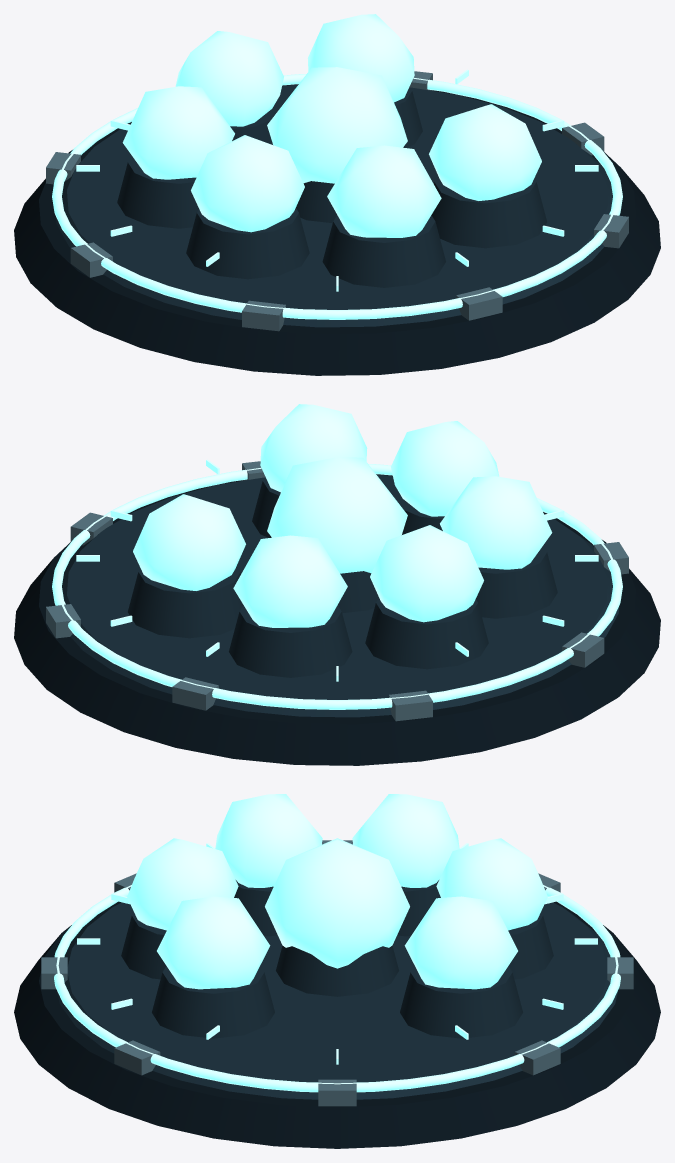
The model's file is crystalStorage.glb.
3 renders of one model, top to bottom at view 1: azimuth 30°, elevation 25°; view 2: azimuth 150°, elevation 25°; view 3: azimuth 270°, elevation 25°, orthographic.
Parts seen in each view (by area): view 1: crystal-cell (×7), armored-foundation, upper-deck, detail (×7), perimeter-light, buttress-2, buttress-3, buttress-4, buttress-1, buttress-0, buttress-5; view 2: crystal-cell (×7), armored-foundation, upper-deck, detail (×7), perimeter-light, buttress-6, buttress-5, buttress-4, buttress-7, buttress-0, buttress-3; view 3: crystal-cell (×7), upper-deck, armored-foundation, detail (×7), perimeter-light, buttress-0, buttress-1, buttress-7, buttress-2, buttress-6.
Part boxes in pixels (x1,y1,x2,y2): crystal-cell (×7): (122,14,541,237); armored-foundation: (14,84,660,375); upper-deck: (55,84,620,327); detail (×7): (117,87,546,287); perimeter-light: (52,74,622,319); buttress-2: (456,287,502,320); buttress-3: (242,300,285,331); buttress-4: (70,242,112,277); buttress-1: (594,214,628,248); buttress-0: (562,122,604,155); buttress-5: (46,152,80,184); crystal-cell (×7): (133,404,552,627); armored-foundation: (14,474,660,765); upper-deck: (54,474,619,717); detail (×7): (128,477,557,677); perimeter-light: (52,464,622,709); buttress-6: (172,677,218,710); buttress-5: (389,690,432,721); buttress-4: (562,632,604,667); buttress-7: (46,604,80,638); buttress-0: (70,512,112,545); buttress-3: (594,542,628,574); crystal-cell (×7): (127,794,547,989); upper-deck: (56,902,618,1099); armored-foundation: (14,901,660,1148); detail (×7): (121,880,553,1038); perimeter-light: (54,885,620,1092); buttress-0: (318,1079,356,1106); buttress-1: (114,1040,160,1075); buttress-7: (514,1040,560,1075); buttress-2: (41,957,67,989); buttress-6: (607,957,633,989).
Bounding box in the file's own units: 10.4 × 3.04 × 10.4.
